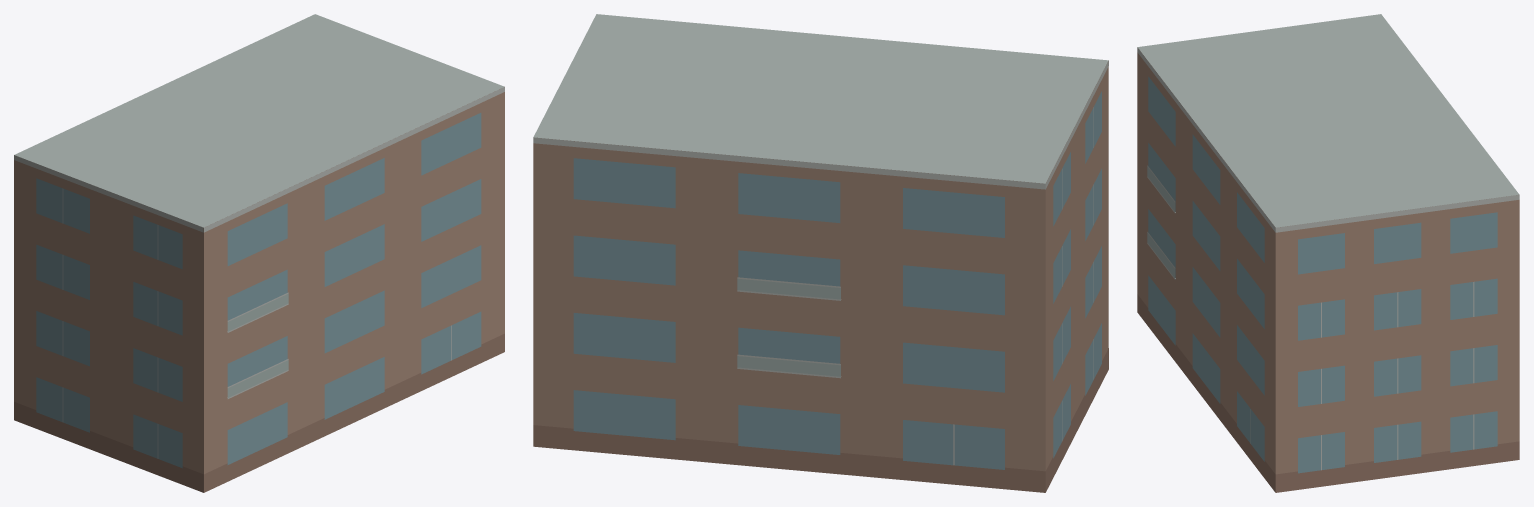
Rendered from survey-upis-33022538.glb.
3 renders of one model, left to right at view 1: azimuth 30°, elevation 25°; view 2: azimuth 150°, elevation 25°; view 3: azimuth 270°, elevation 25°, orthographic. The views are drawn at different scales.
Parts seen in each view (by area): view 1: survey-upis-33022538.tmp; view 2: survey-upis-33022538.tmp; view 3: survey-upis-33022538.tmp.
Part boxes in pixels (box(x1,y1,x2,y2)): survey-upis-33022538.tmp: box(14, 14, 504, 492); survey-upis-33022538.tmp: box(533, 14, 1108, 492); survey-upis-33022538.tmp: box(1137, 14, 1519, 492).
Size of the model in its own units: 22.13 by 12.8 by 16.73.
